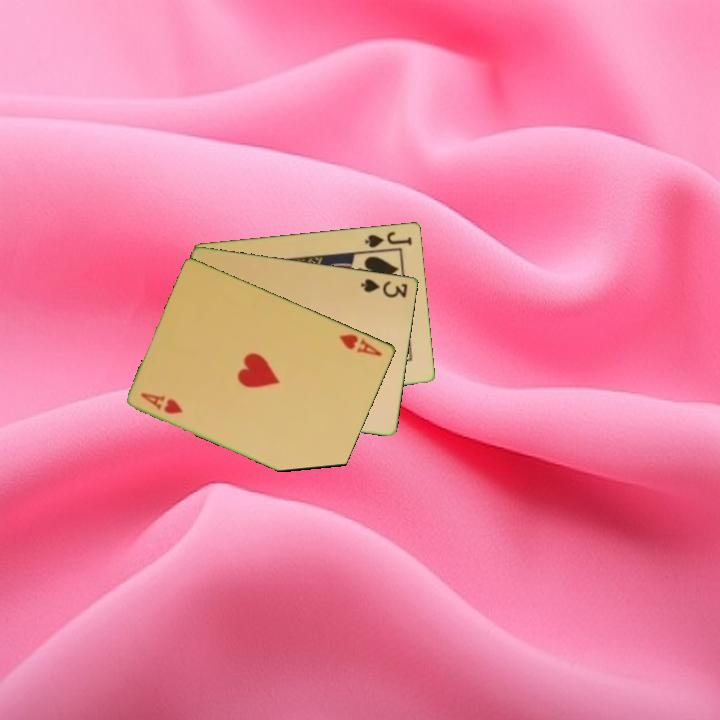3s: (357, 275, 411, 300)
Ah: (336, 330, 385, 359), (137, 389, 186, 417)
Js: (361, 228, 415, 250)
